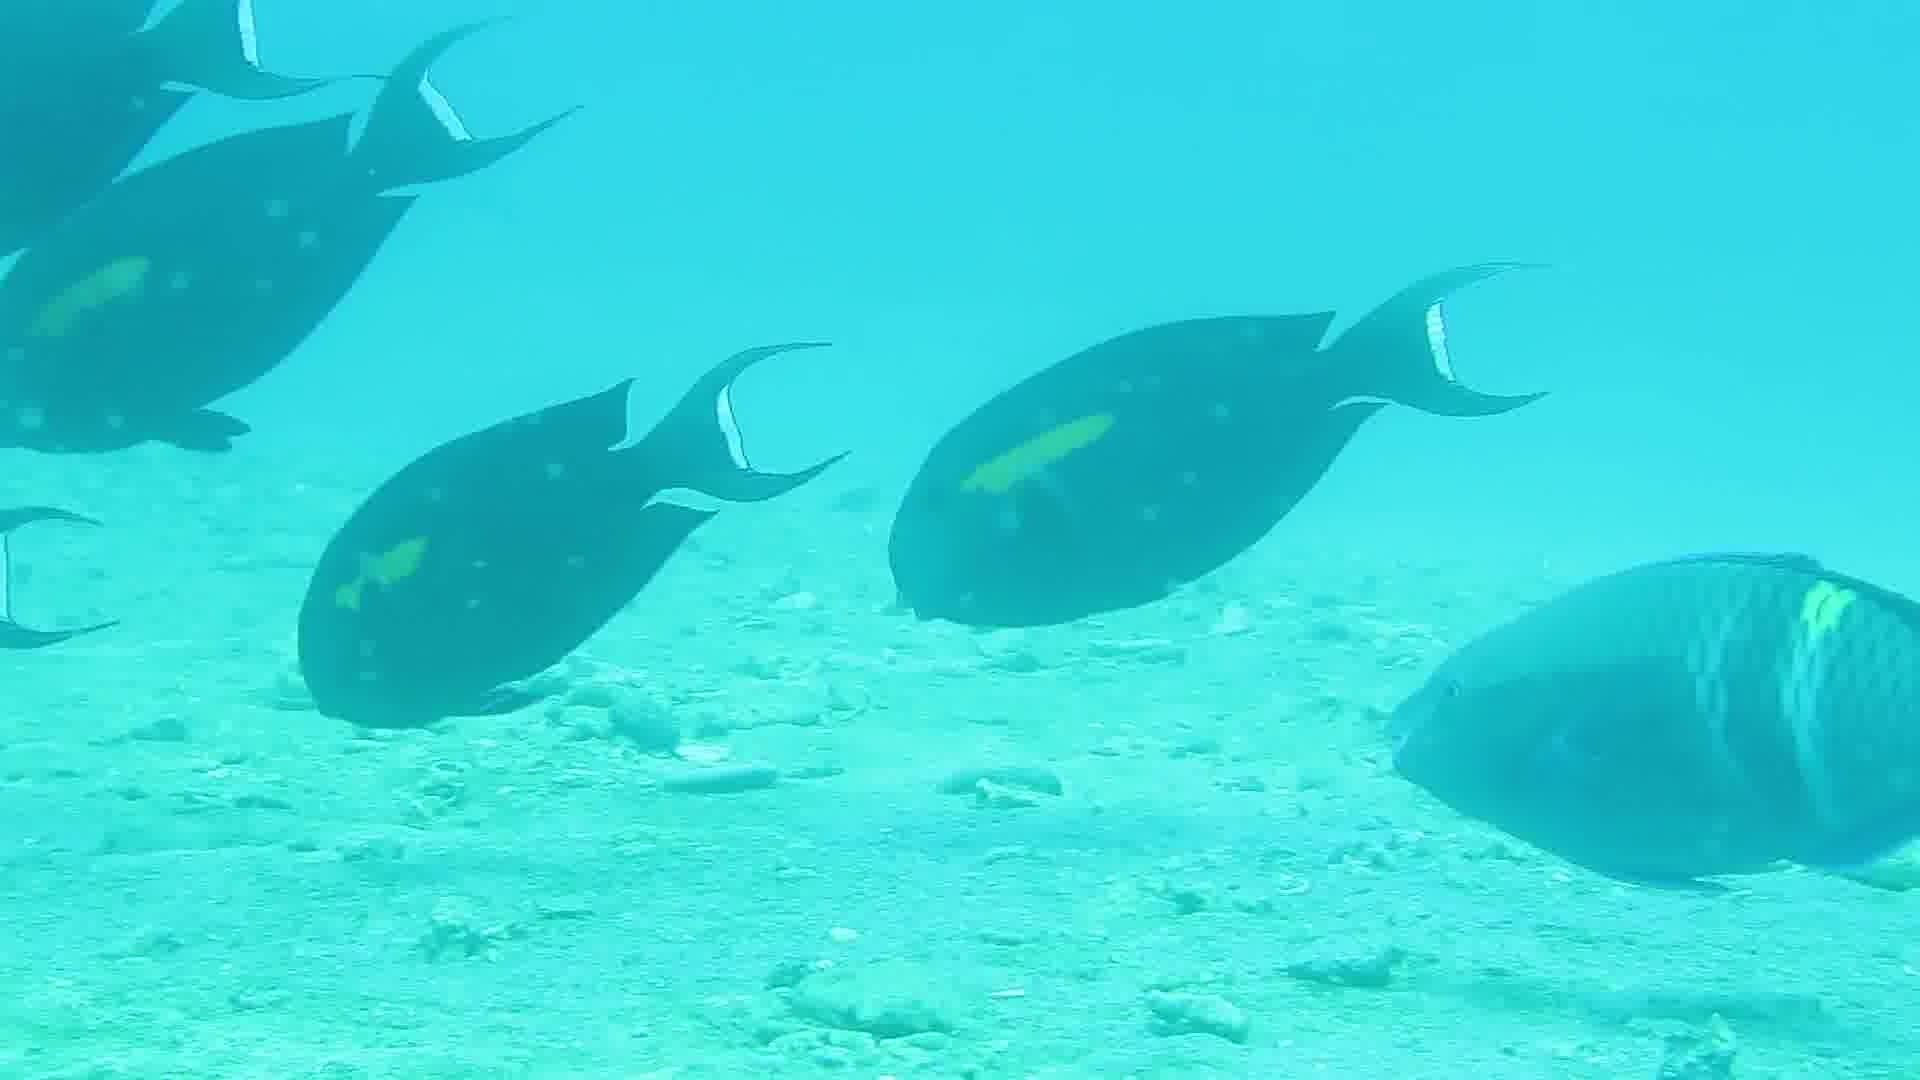Acanthurus olivaceus: (1389, 535, 1920, 930), (262, 396, 855, 735), (862, 293, 1453, 632), (1, 100, 591, 439)
